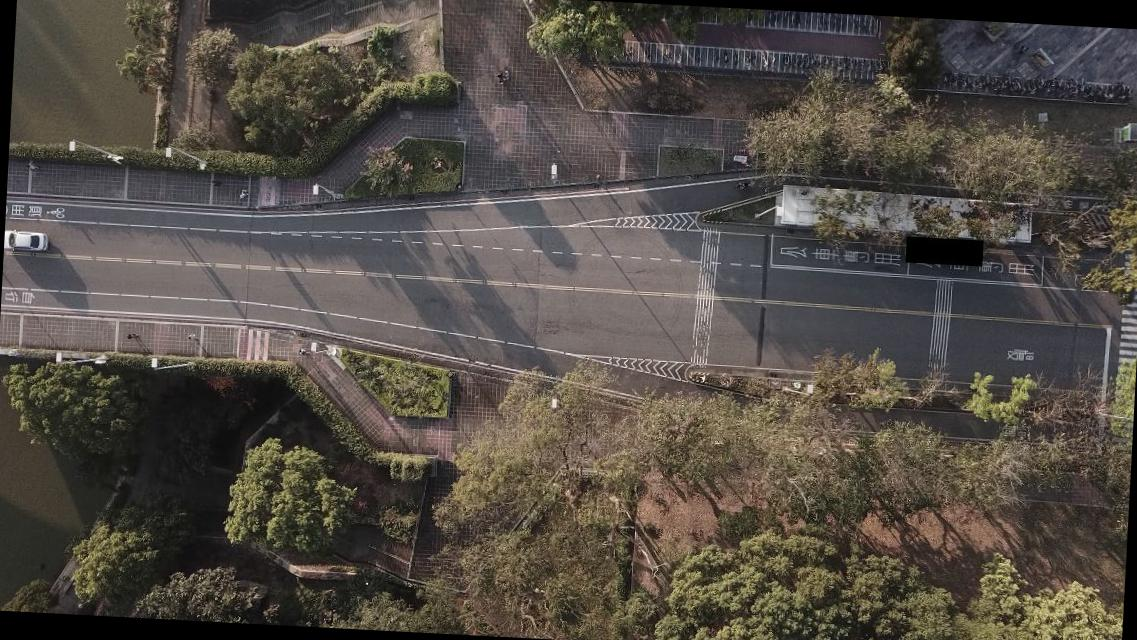vehicle: (3, 230, 48, 253)
